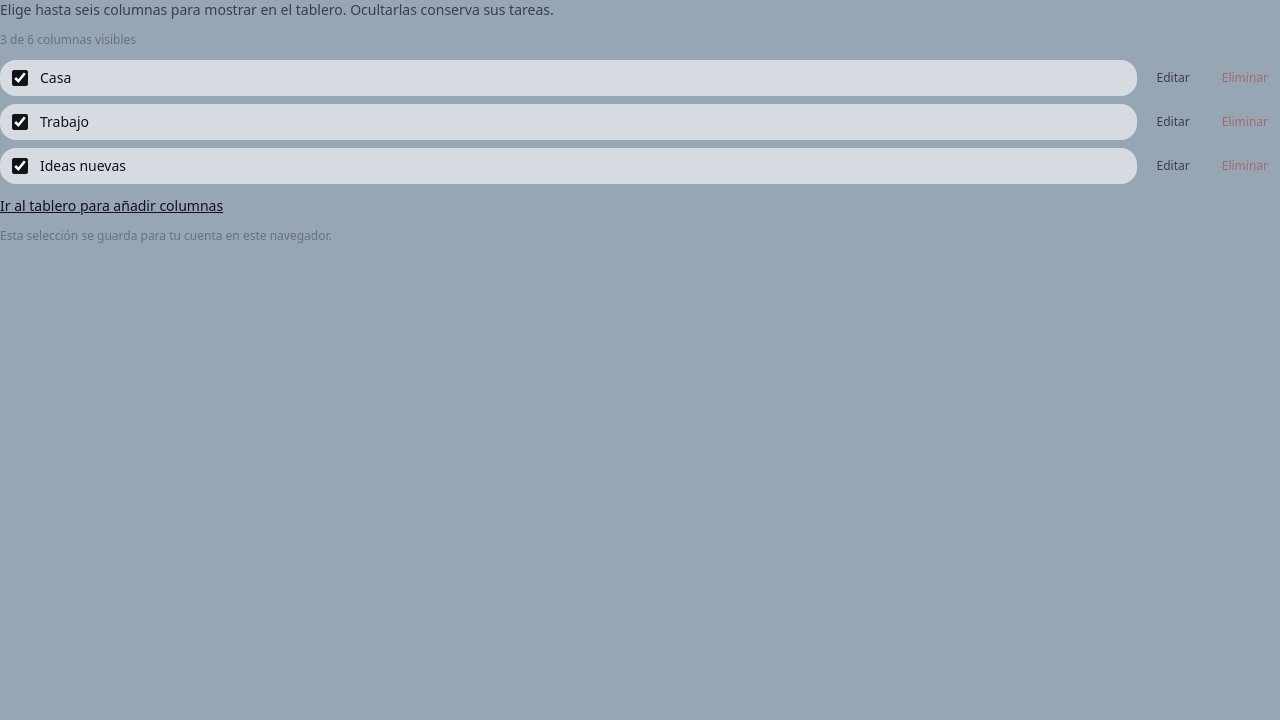
Scenario: Google Tasks › en solo lectura permite editar el color sin escribir en Google
What coordinates should you click on to do the following:
click the button with aria-label "Editar columna Casa"
I would click on:
 (1173, 78)
Its box is [1144, 62, 1202, 94].
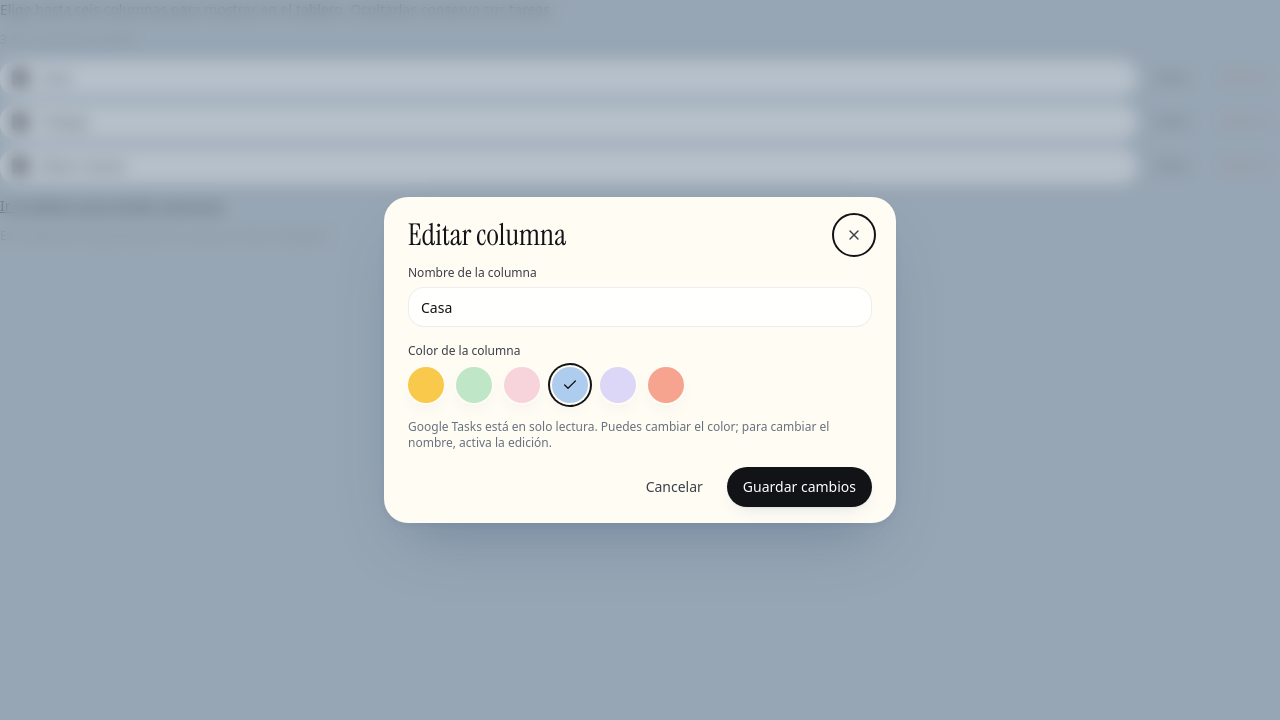
What coordinates should you click on to do the following:
click the radio button named "Lila"
I would click on:
 (618, 385)
Its box is [600, 367, 636, 403].
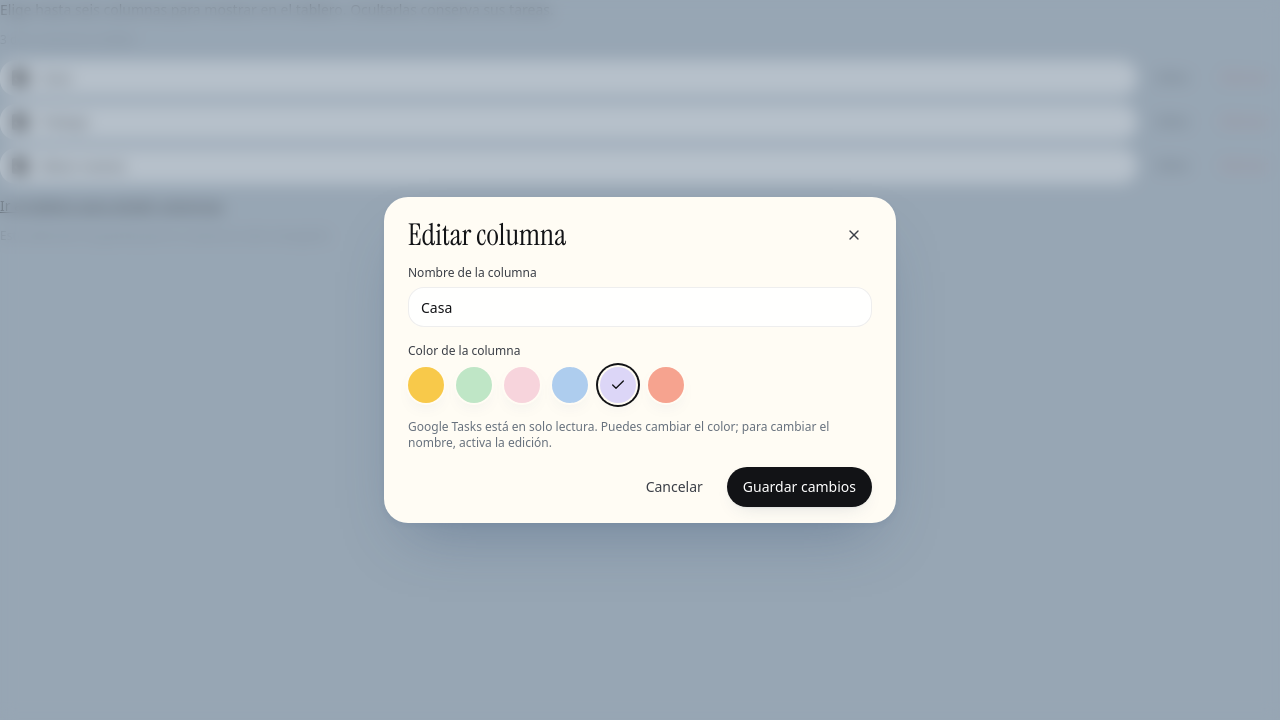
What coordinates should you click on to do the following:
click the button "Guardar cambios"
I would click on:
 (799, 487)
Its box is [727, 467, 872, 507].
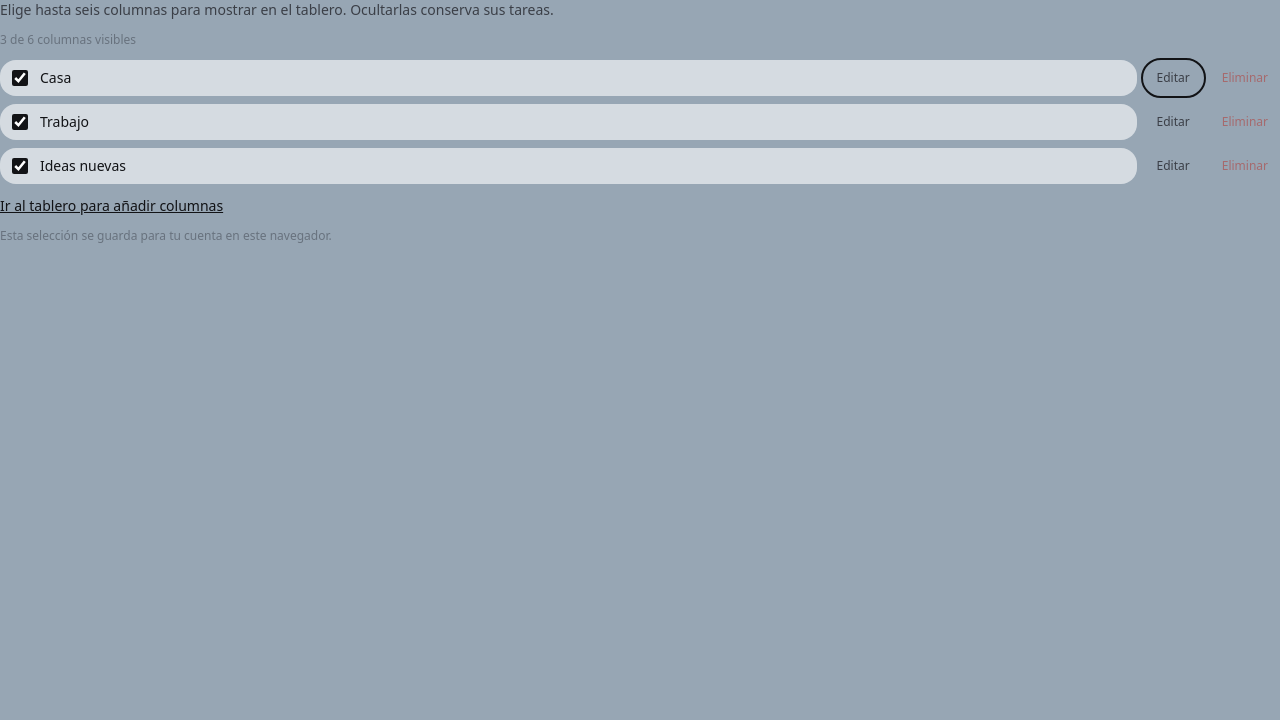
Expected: the dialog is gone
